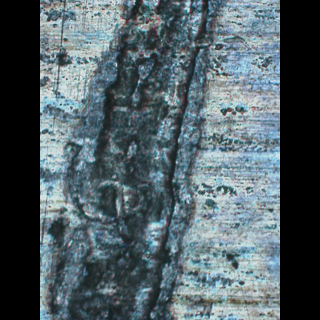d: (59, 0, 225, 318)
